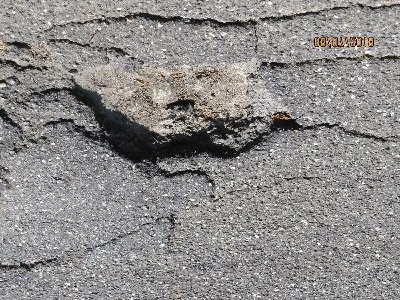pothole: (65, 58, 303, 170)
